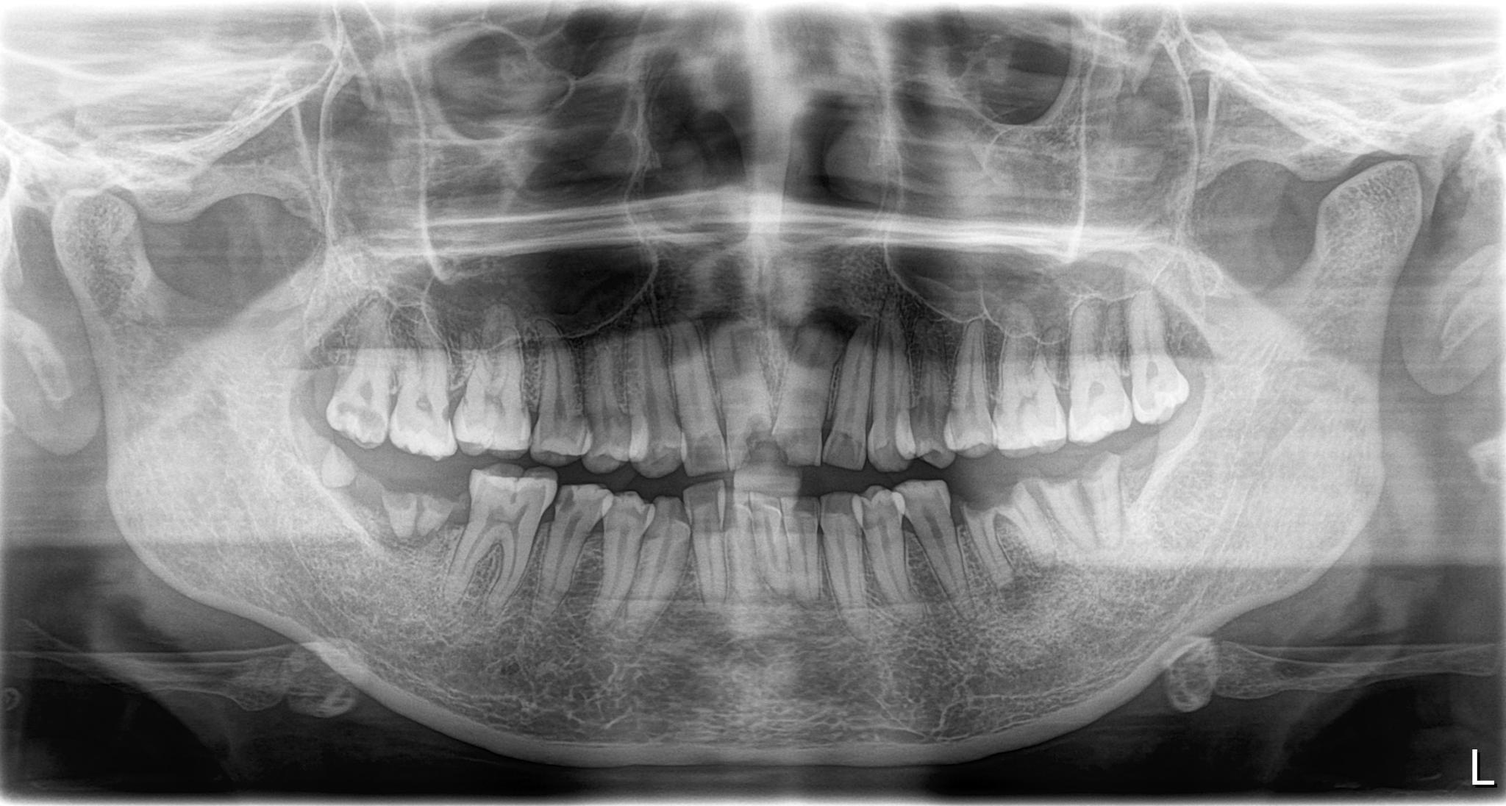Dental Caries: (553, 500, 613, 538), (351, 384, 380, 422)
Missing Tooth: (314, 449, 368, 539)
Retained Root: (371, 463, 471, 547), (958, 476, 1032, 585), (1090, 461, 1139, 558), (1041, 469, 1086, 566)
